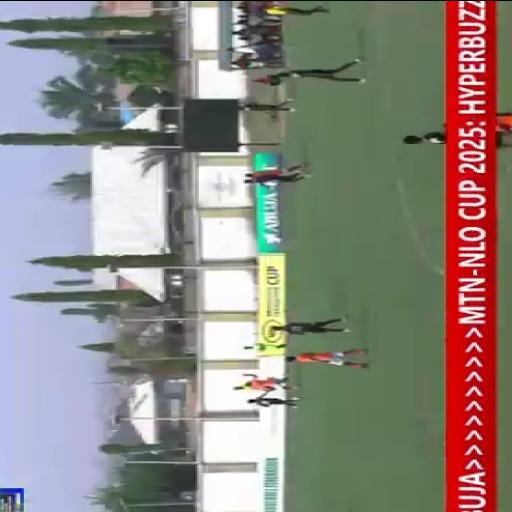referee: (250, 1, 332, 19)
team1: (285, 343, 370, 367), (246, 372, 300, 390), (236, 168, 306, 180)
team2: (262, 60, 368, 82), (267, 312, 357, 336), (242, 394, 300, 410), (248, 174, 308, 186)
